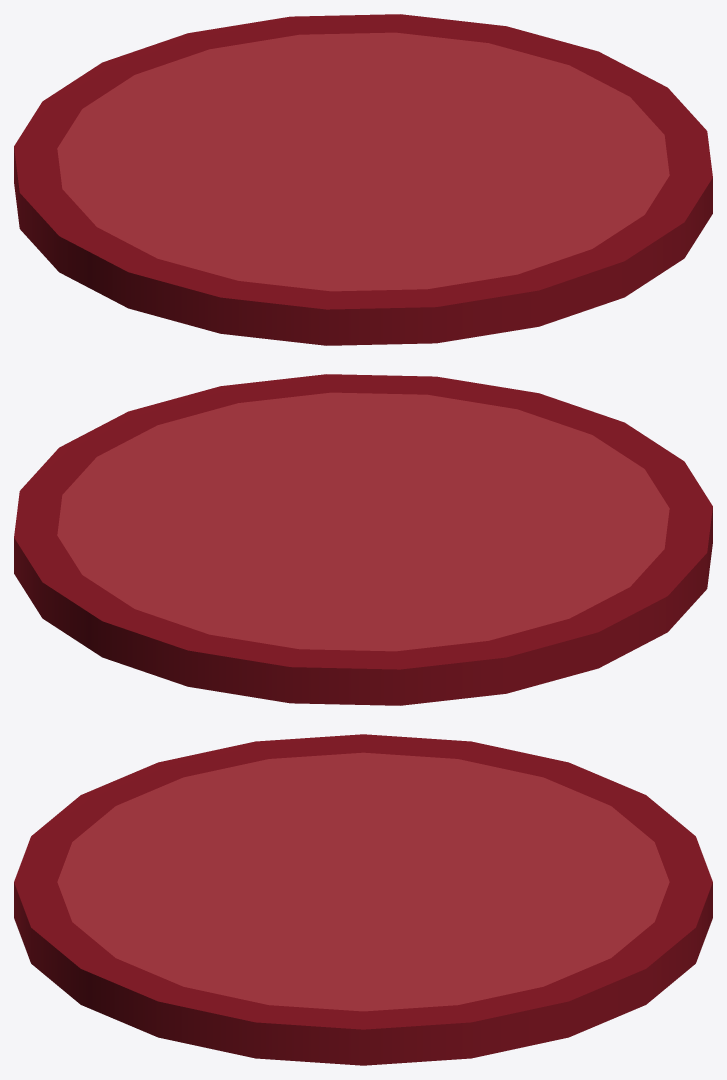
File: Tomato.fbx
3 renders of one model, top to bottom at view 1: azimuth 30°, elevation 25°; view 2: azimuth 150°, elevation 25°; view 3: azimuth 270°, elevation 25°, orthographic.
Parts seen in each view (by area): view 1: Tomato; view 2: Tomato; view 3: Tomato.
Part boxes in pixels (<box>): Tomato: <box>14,14,712,345</box>; Tomato: <box>14,374,712,705</box>; Tomato: <box>14,734,712,1065</box>.
Bounding box in the file's own units: 8.32 × 0.4736 × 8.32.
